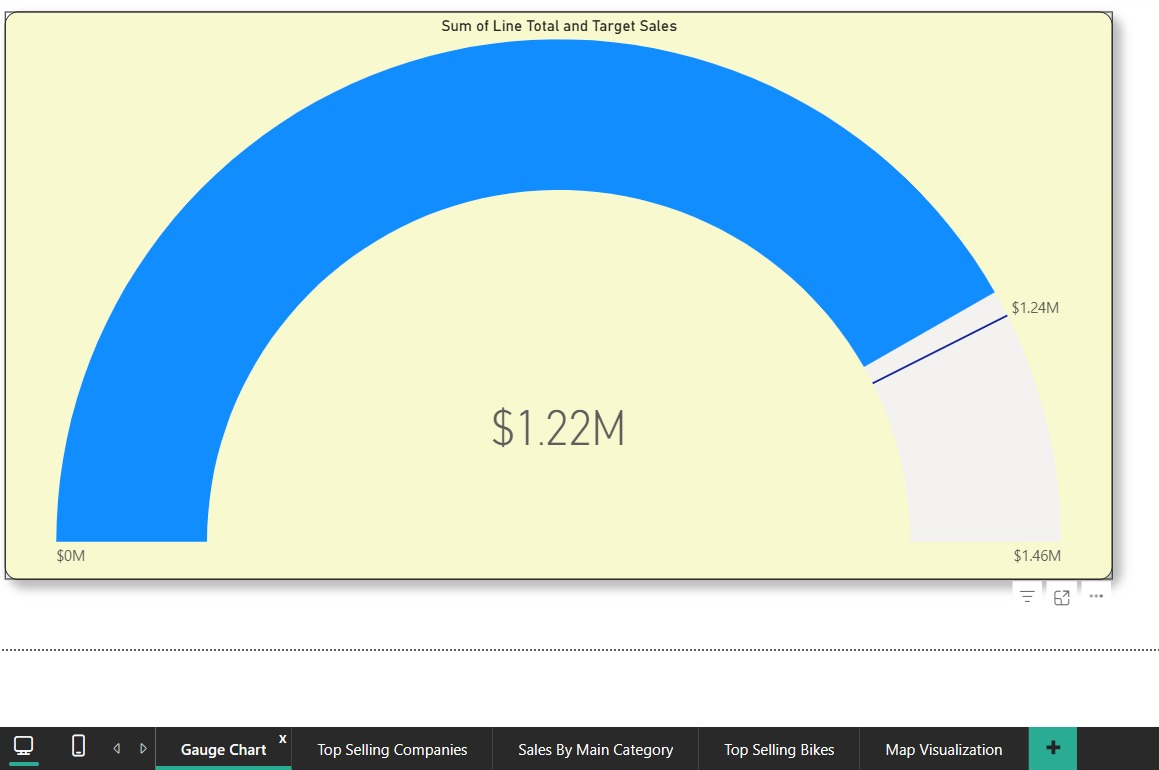

This screenshot's page, from the dashboard's own definition file:
{"tool":"powerbi","page":{"name":"Gauge Chart","canvas":[1280,720],"ordinal":0},"visuals":[{"type":"gauge","fields":{"Y":["Sum(Sales.Line Total)"],"TargetValue":["Sales.Target Sales"]},"box":[9.6,19.2,1215.8,624.4],"z":0}]}

Visuals, with their boxes on the page's 1280x720 design canvas (x1, y1, x2, y2). These are canvas units, not pixel positions in the 1159x770 screenshot, which may show the page scaled, cropped or inside an application window:
gauge - Sum(Sales.Line Total) x Sales.Target Sales: [10,19,1225,644]
